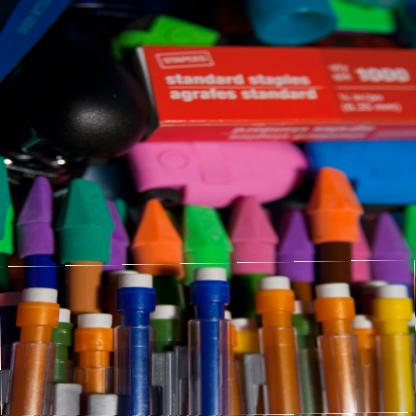Pen: (0, 262, 415, 415)
